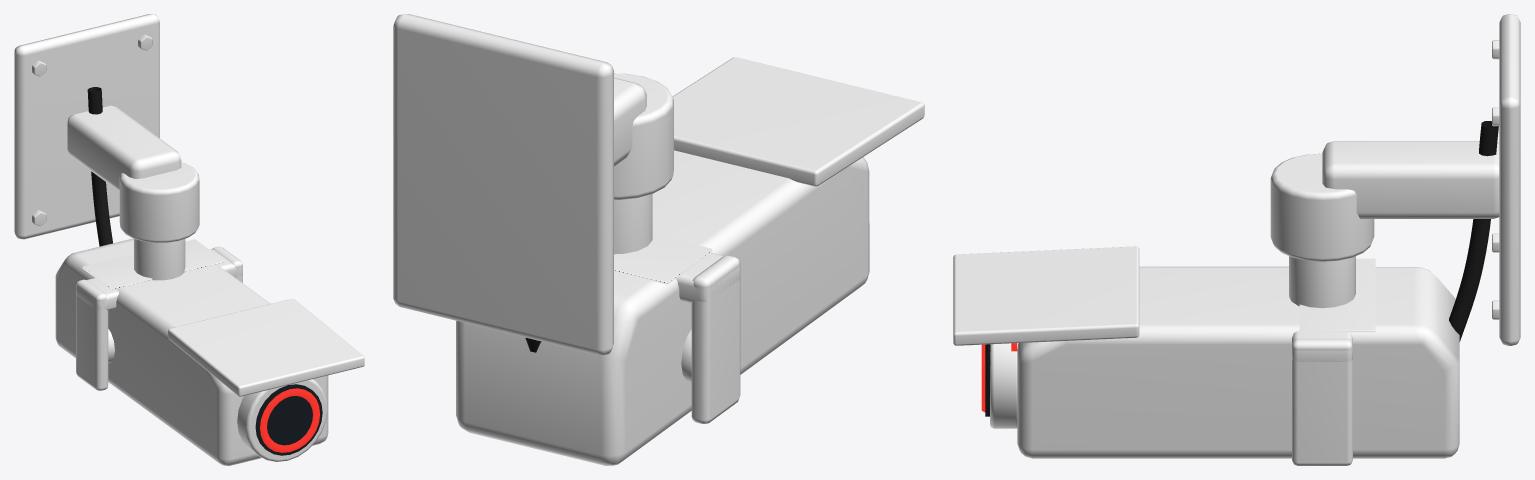
File: camera.glb
3 renders of one model, left to right at view 1: azimuth 30°, elevation 25°; view 2: azimuth 150°, elevation 25°; view 3: azimuth 270°, elevation 25°, orthographic. The views are drawn at different scales.
Visible parts, largest first — view 1: housing, wall_plate, visor, bracket, yaw_joint, arm_fork, lens, stripe, lens_ring, arm_post, cable, lens_glow (+1 smaller); view 2: wall_plate, housing, visor, arm_fork, yaw_joint, stripe, arm_post, bracket, arm_bar; view 3: housing, visor, bracket, yaw_joint, arm_fork.001, wall_plate, arm_post, stripe, cable, lens_ring, arm_bar.
Boxes of the visible parts, bbox=[...] form: housing: bbox=[55, 238, 328, 465]; wall_plate: bbox=[14, 14, 159, 239]; visor: bbox=[168, 298, 364, 396]; bracket: bbox=[67, 105, 181, 191]; yaw_joint: bbox=[119, 162, 199, 242]; arm_fork: bbox=[76, 279, 108, 390]; lens: bbox=[255, 384, 322, 455]; stripe: bbox=[82, 239, 224, 290]; lens_ring: bbox=[237, 379, 327, 461]; arm_post: bbox=[134, 239, 185, 280]; cable: bbox=[87, 87, 112, 246]; lens_glow: bbox=[260, 388, 319, 452]; wall_plate: bbox=[393, 14, 613, 355]; housing: bbox=[456, 150, 869, 465]; visor: bbox=[672, 57, 924, 186]; arm_fork: bbox=[691, 255, 740, 423]; yaw_joint: bbox=[614, 73, 673, 199]; stripe: bbox=[614, 234, 712, 284]; arm_post: bbox=[614, 194, 652, 254]; bracket: bbox=[614, 77, 646, 166]; arm_bar: bbox=[676, 253, 740, 302]; housing: bbox=[1017, 266, 1459, 458]; visor: bbox=[953, 246, 1139, 345]; bracket: bbox=[1322, 141, 1499, 218]; yaw_joint: bbox=[1270, 153, 1374, 261]; arm_fork.001: bbox=[1292, 338, 1352, 465]; wall_plate: bbox=[1499, 14, 1520, 345]; arm_post: bbox=[1289, 256, 1355, 308]; stripe: bbox=[1299, 258, 1375, 332]; cable: bbox=[1449, 121, 1498, 341]; lens_ring: bbox=[990, 343, 1018, 428]; arm_bar: bbox=[1292, 330, 1352, 361].
Size of the model in its own units: 0.144 by 0.27 by 0.372.
